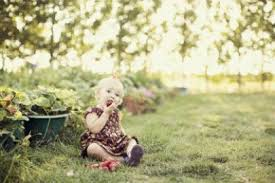child: (77, 76, 149, 170)
